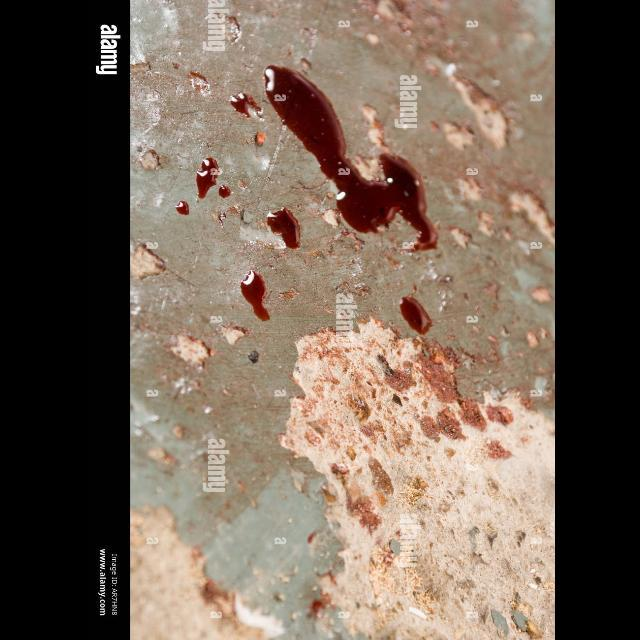blood: (263, 64, 437, 252), (240, 269, 268, 321), (266, 208, 300, 250), (399, 294, 431, 334), (195, 157, 218, 198), (230, 94, 260, 118), (175, 200, 188, 215), (218, 185, 229, 198)
